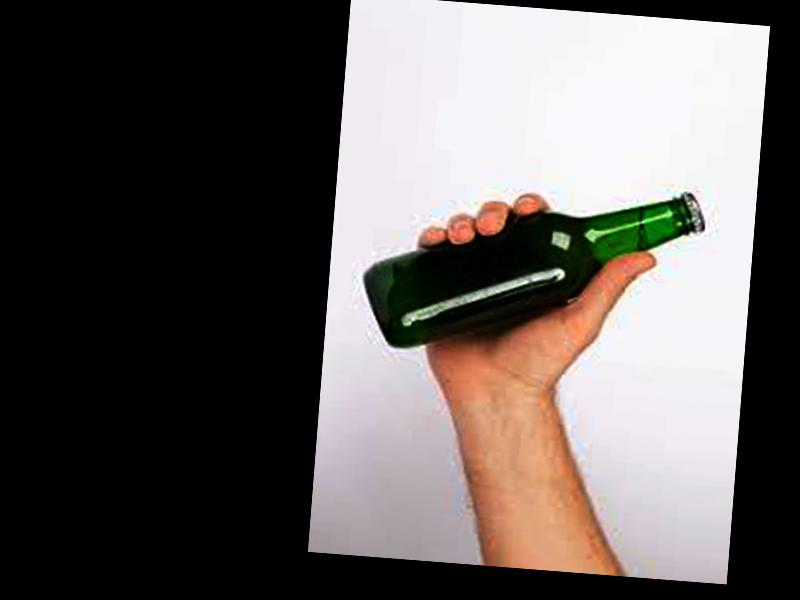Beer: (362, 169, 708, 370)
